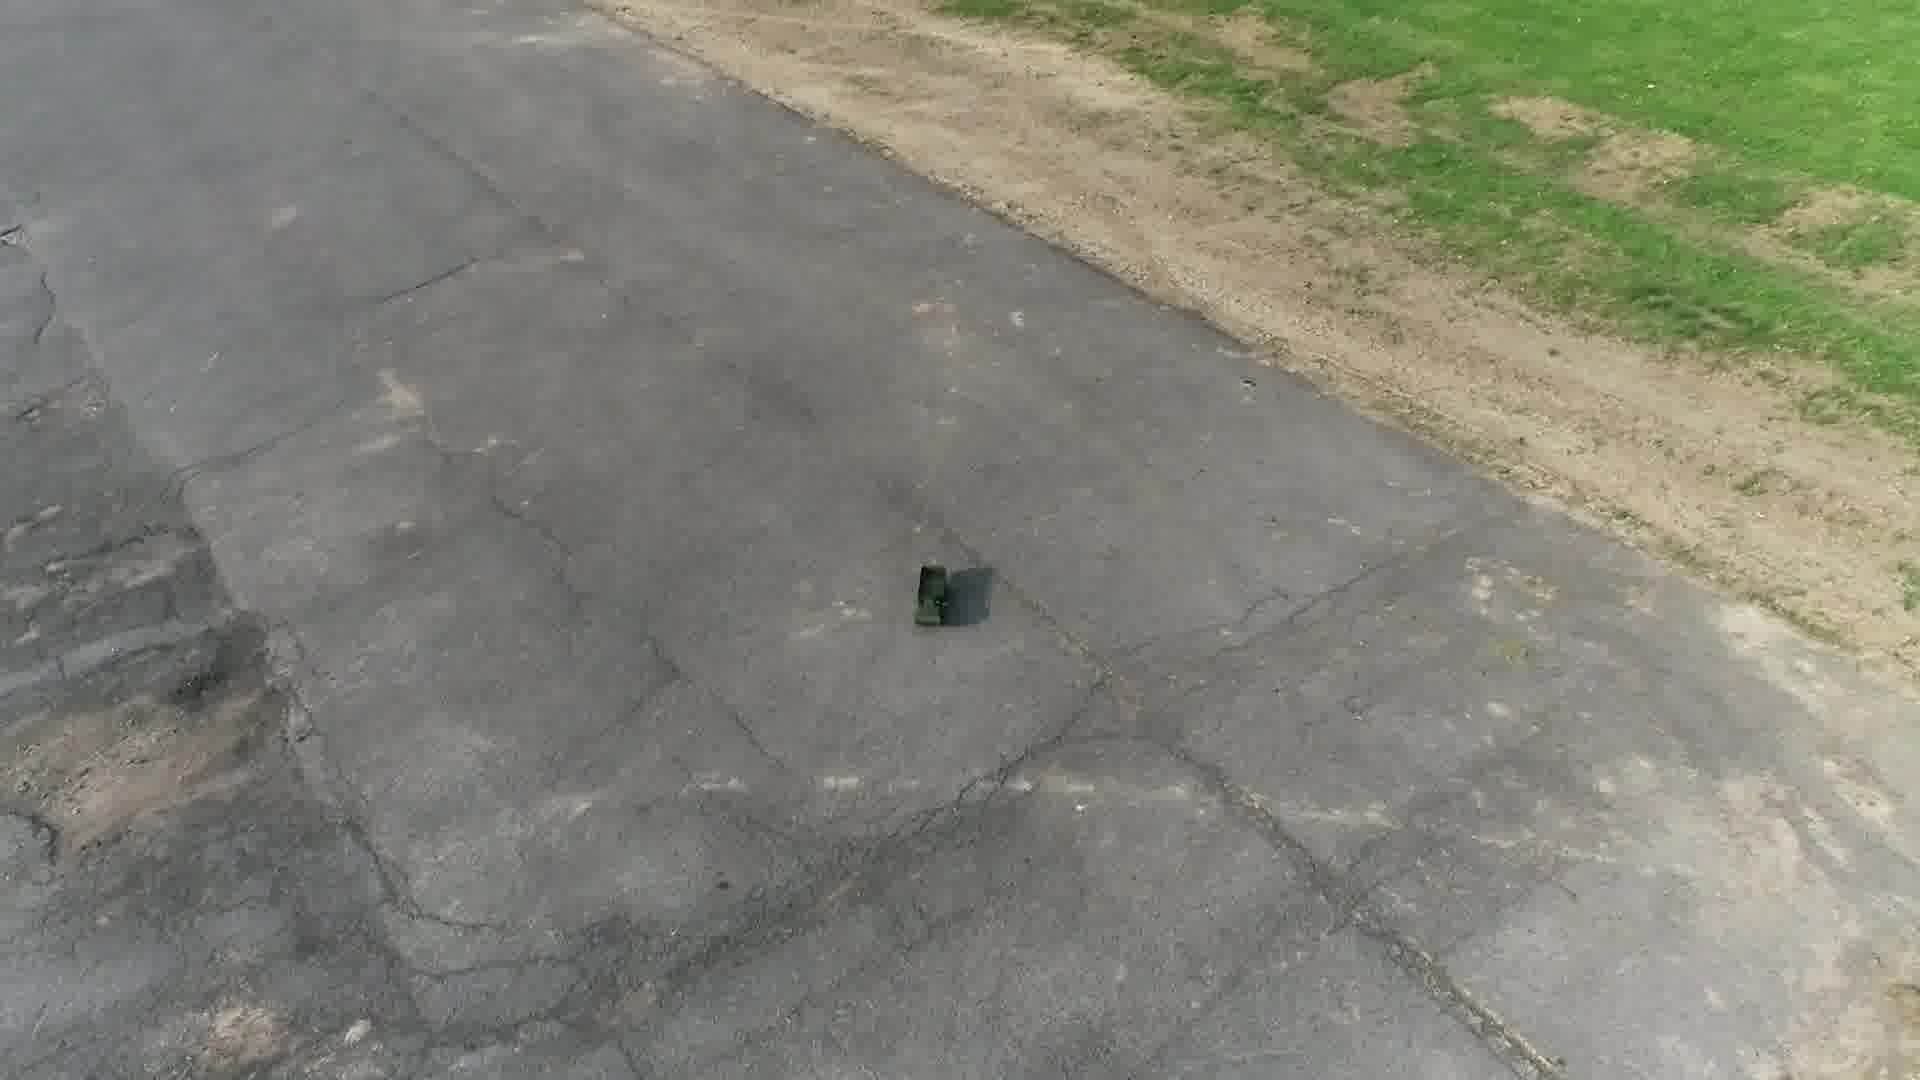transporter9: (910, 562, 953, 632)
